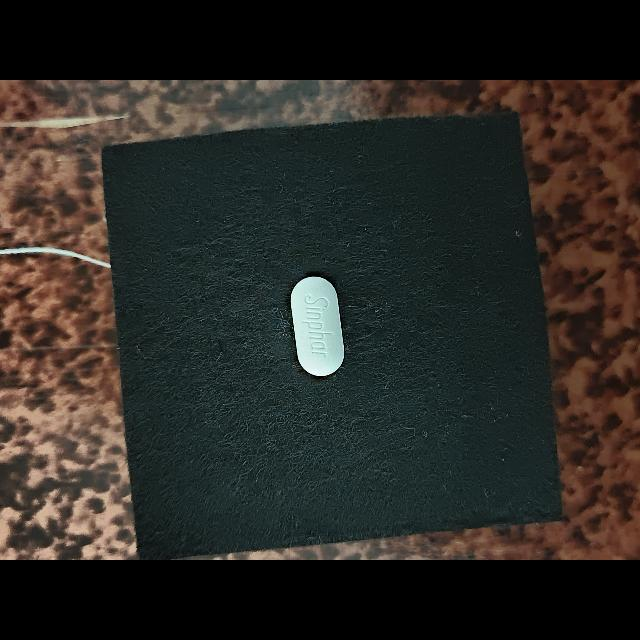Intact Pill: (291, 276, 345, 376)
